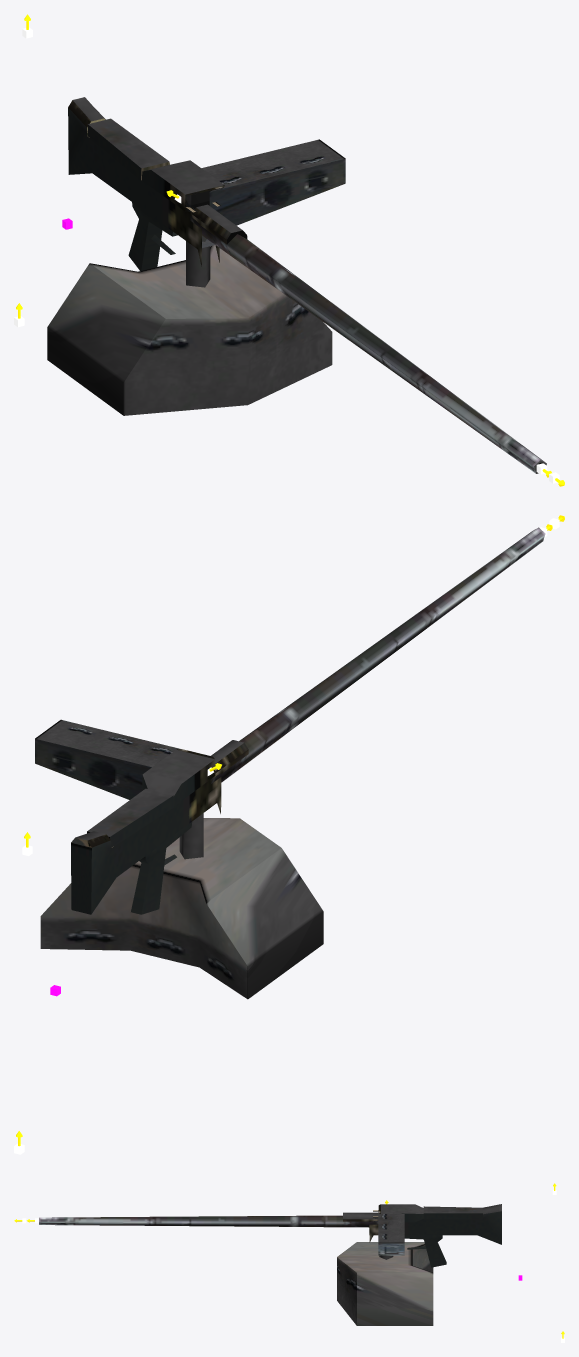
The model's file is VBLtur.glb.
3 renders of one model, top to bottom at view 1: azimuth 30°, elevation 25°; view 2: azimuth 150°, elevation 25°; view 3: azimuth 270°, elevation 25°, orthographic. The views are drawn at different scales.
Parts seen in each view (by area): view 1: 01 Mesh0, 02 Mesh0; view 2: 01 Mesh0, 02 Mesh0; view 3: 02 Mesh0, 01 Mesh0.
Part boxes in pixels (x1,y1,x2,y2): 01 Mesh0: [47, 235, 332, 415]; 02 Mesh0: [68, 97, 546, 473]; 01 Mesh0: [40, 813, 323, 999]; 02 Mesh0: [35, 527, 545, 914]; 02 Mesh0: [39, 1204, 501, 1267]; 01 Mesh0: [337, 1242, 433, 1325].
Bounding box in the file's own units: 0.5438 × 0.6768 × 2.13.
Materials: 4 (1 with a texture image).
